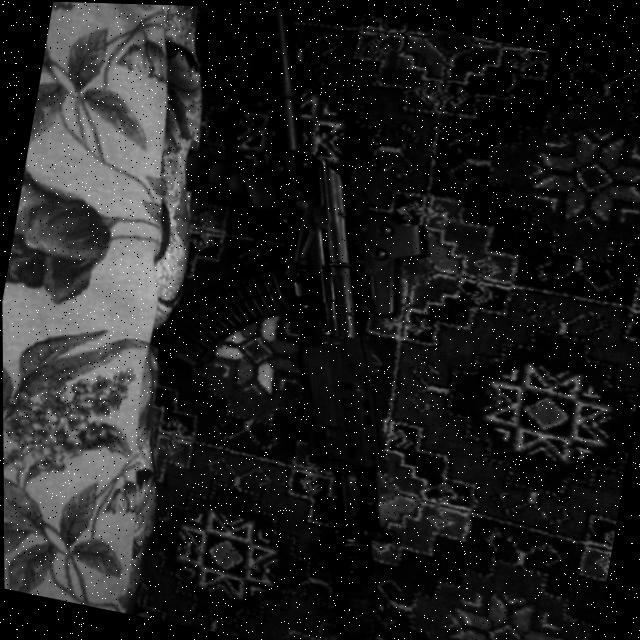firearm: (80, 2, 495, 640)
